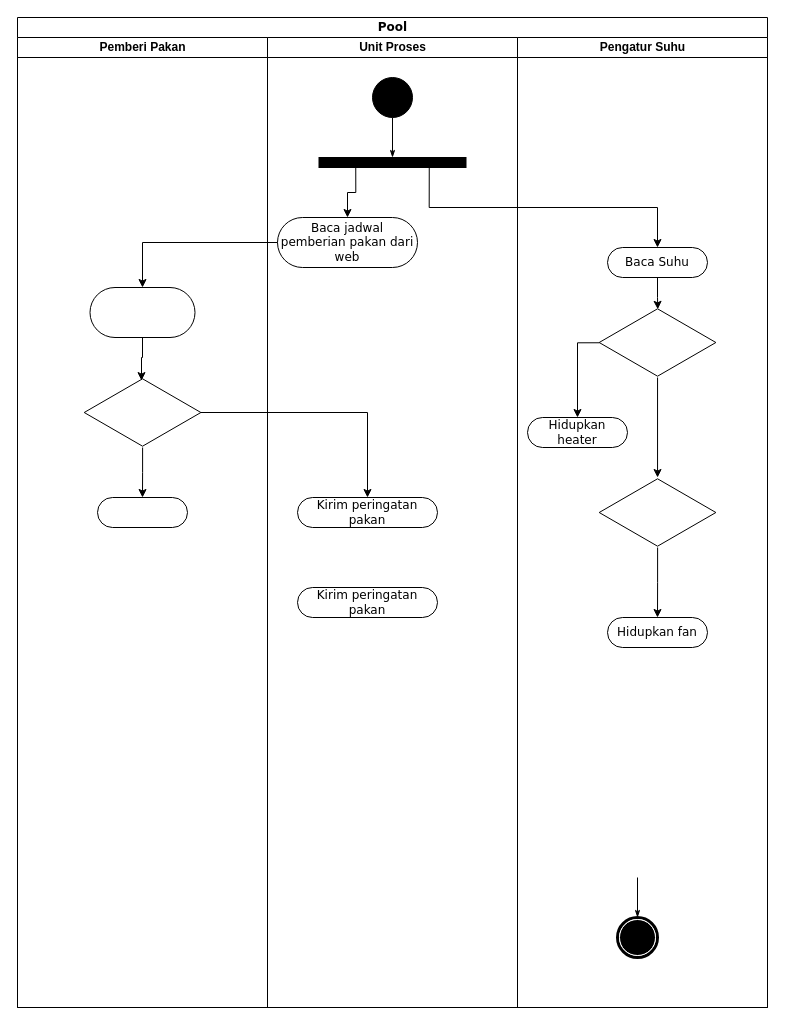
The diagram is 785 pixels wide and 1025 high, and some of its shapes have lost their labels. The centre of each missing label's shape, as x and y in pixels:
"Baca tinggi kumpulan pakan" belongs at [142,312].
"Berikan pakan" belongs at [142,512].
"Suhu <= T0" belongs at [657,342].
"Suhu >= T1" belongs at [657,512].
"Tinggi >= h" belongs at [142,412].
